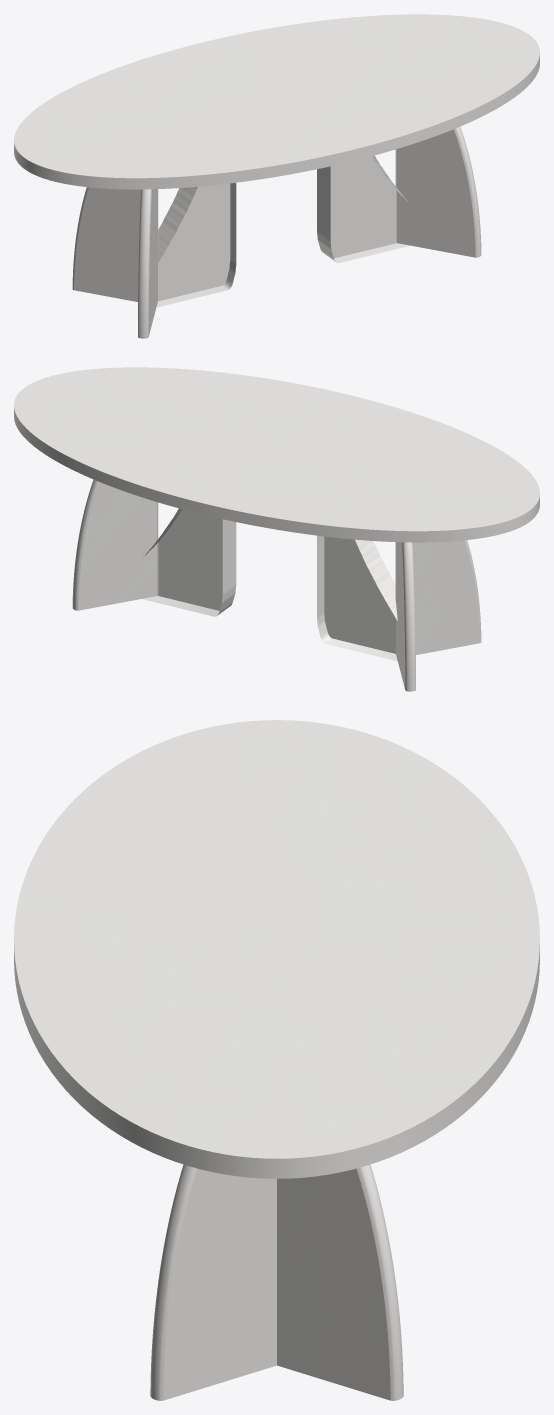
File: purewhite_ellips_standard_plane.glb
3 renders of one model, top to bottom at view 1: azimuth 30°, elevation 25°; view 2: azimuth 150°, elevation 25°; view 3: azimuth 270°, elevation 25°, orthographic. The views are drawn at different scales.
Parts seen in each view (by area): view 1: standard_ellips, plane_singleright2, plane_single1, plane_single2, plane_singleleft1, plane_singleright1; view 2: standard_ellips, plane_singleleft2, plane_single1, plane_single2, plane_singleright1, plane_singleleft1; view 3: standard_ellips, plane_singleleft2, plane_singleright2.
Part boxes in pixels (box(x1,y1,x2,y2)): standard_ellips: box(14, 14, 539, 189); plane_singleright2: box(395, 127, 481, 257); plane_single1: box(156, 183, 236, 307); plane_single2: box(317, 155, 409, 263); plane_singleleft1: box(72, 187, 158, 301); plane_singleright1: box(138, 189, 157, 338); standard_ellips: box(14, 367, 539, 542); plane_singleleft2: box(72, 480, 158, 610); plane_single1: box(317, 535, 397, 661); plane_single2: box(142, 508, 236, 616); plane_singleright1: box(395, 540, 481, 654); plane_singleleft1: box(396, 542, 415, 691); standard_ellips: box(14, 720, 539, 1178); plane_singleleft2: box(277, 1164, 403, 1400); plane_singleright2: box(150, 1164, 276, 1400).
Bounding box in the file's own units: 7.5 × 2.49 × 3.8.
1 material, 1 textured.
